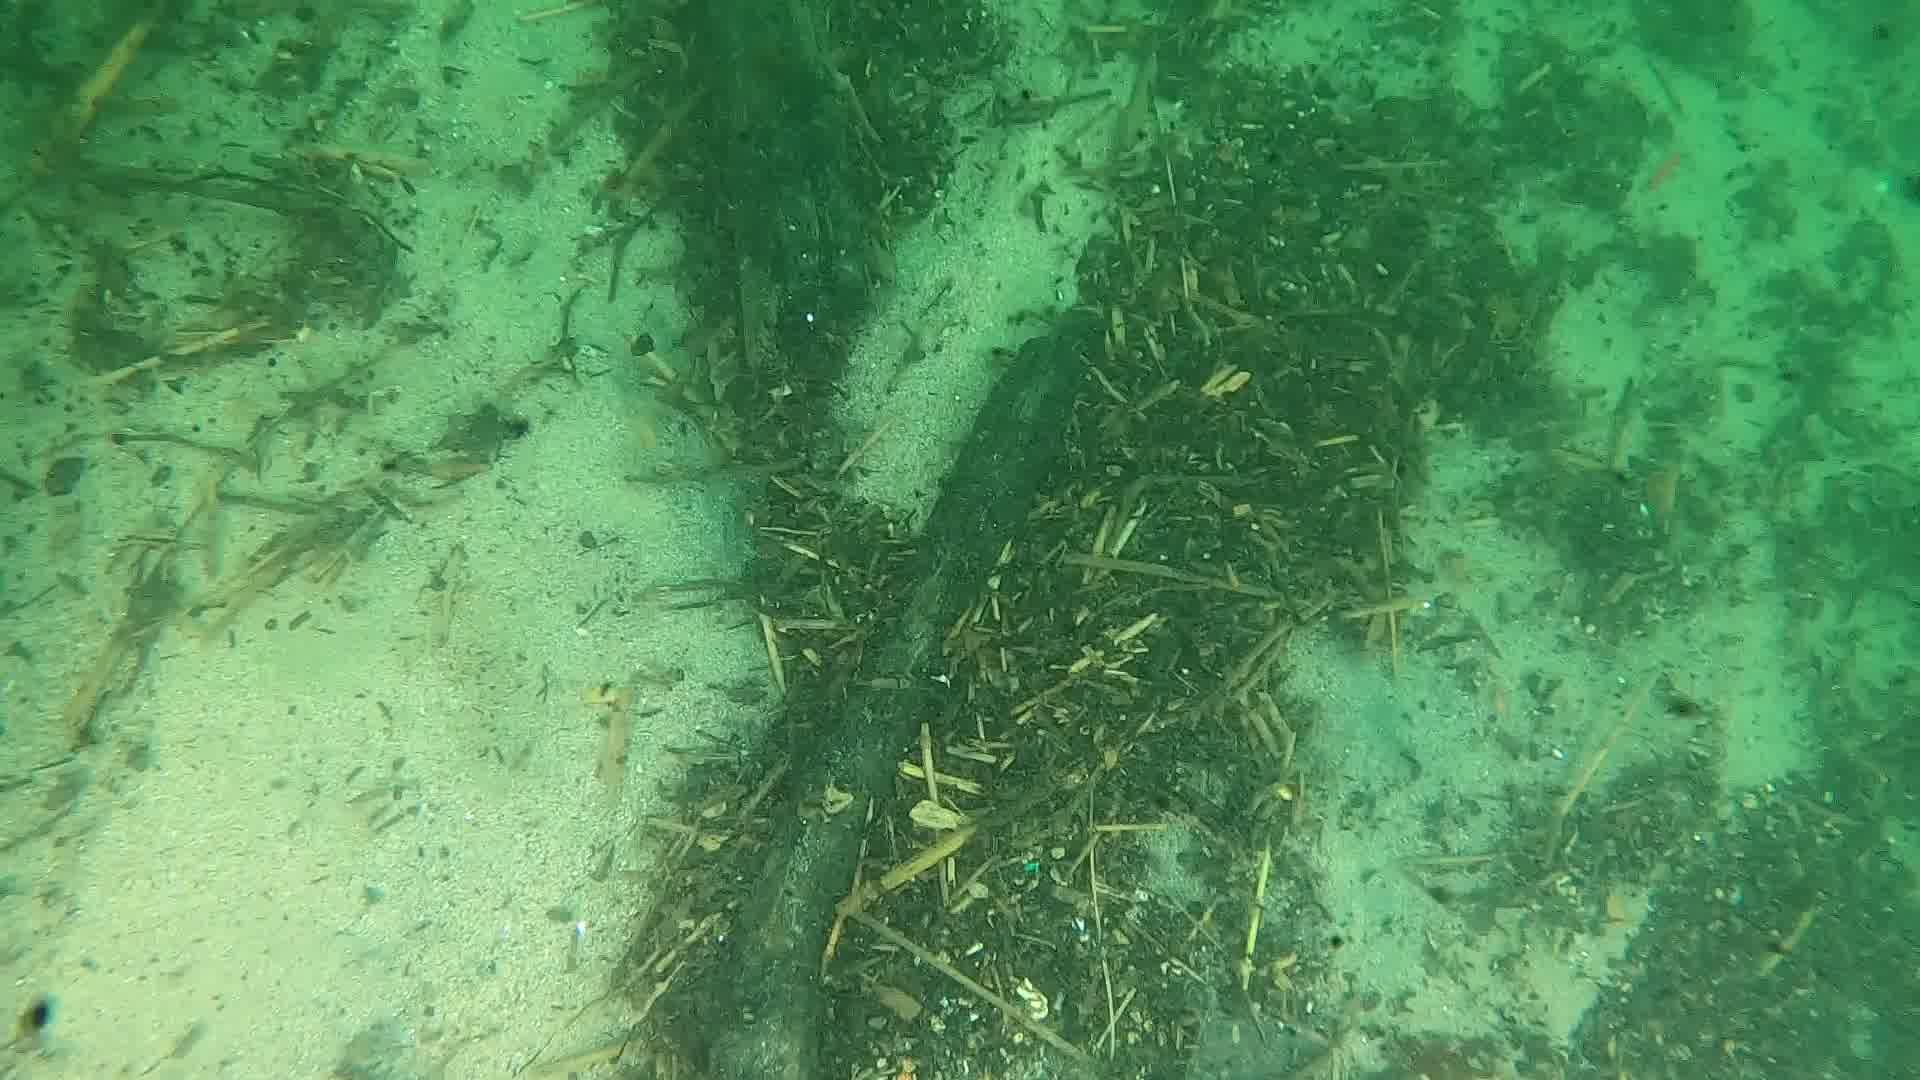wood: (698, 334, 1077, 1080)
